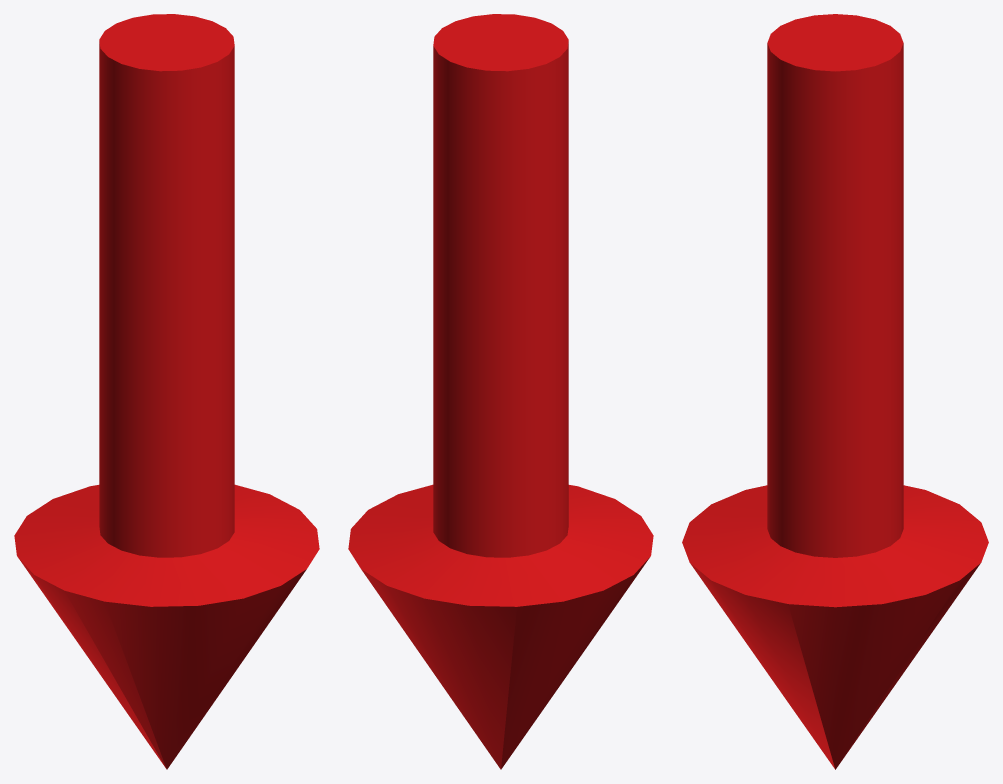
The model's file is arrow.fbx.
3 views of the same model, side by side, from view 1: azimuth 30°, elevation 25°; view 2: azimuth 150°, elevation 25°; view 3: azimuth 270°, elevation 25° (orthographic).
Parts seen in each view (by area): view 1: RootNode; view 2: RootNode; view 3: RootNode.
Boxes of the visible parts, box(x1,y1,x2,y2) form: RootNode: box(14, 14, 319, 769); RootNode: box(348, 14, 653, 769); RootNode: box(682, 14, 988, 769).
Size of the model in its own units: 90.05 by 235 by 90.05.
